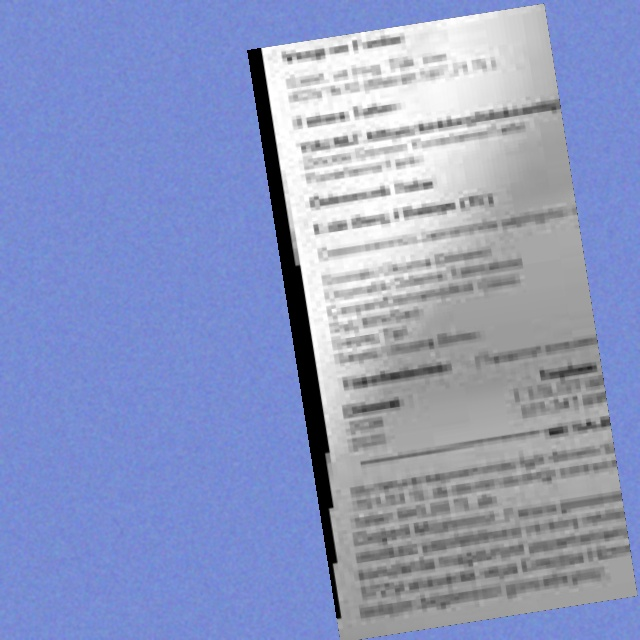electricity-bill: (246, 3, 638, 640)
